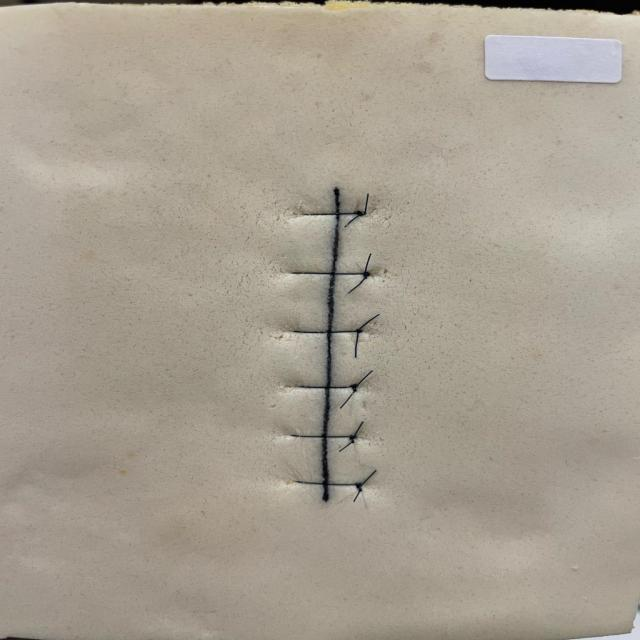knot: (352, 209, 369, 218), (347, 433, 359, 445), (353, 481, 364, 494), (361, 270, 373, 281), (348, 382, 359, 390), (354, 327, 365, 335)
leftover: (338, 386, 357, 409), (357, 313, 381, 331), (346, 276, 368, 295), (354, 369, 374, 388), (359, 469, 378, 487), (342, 213, 361, 228), (337, 439, 355, 452), (352, 419, 365, 437), (363, 252, 373, 274), (353, 331, 360, 359), (363, 192, 370, 215), (352, 487, 362, 503)
stitch: (294, 480, 359, 486), (290, 271, 367, 275), (296, 384, 354, 389), (304, 211, 359, 216), (292, 330, 360, 334), (290, 434, 353, 438)
wound: (322, 186, 340, 503)
